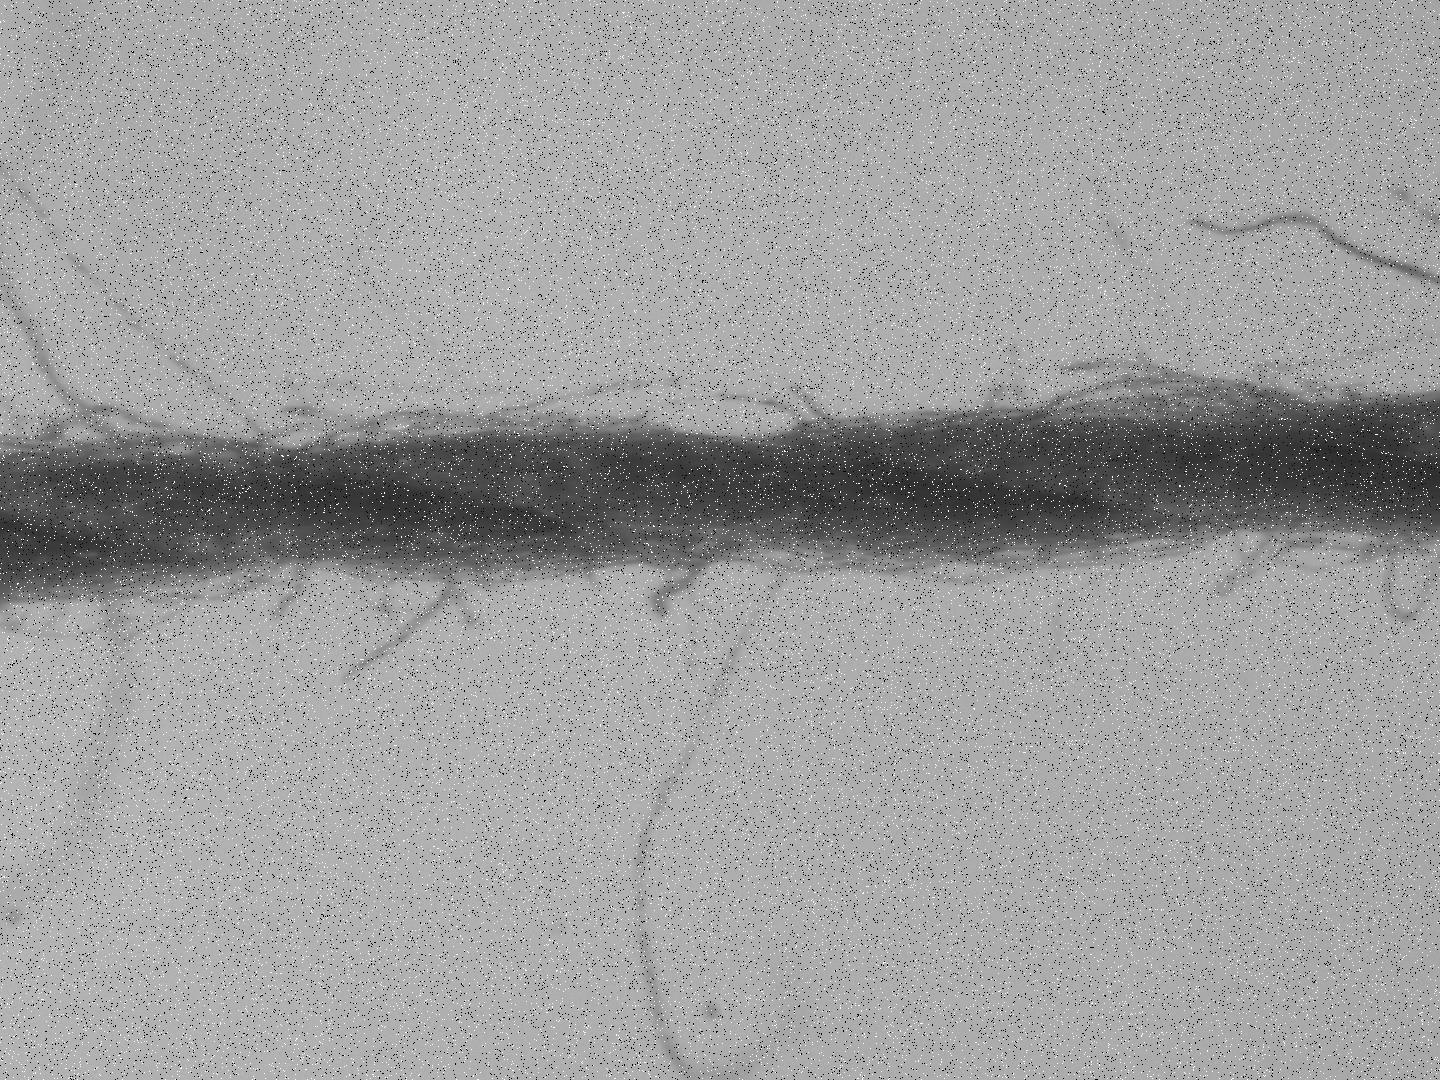loop_fiber: (1, 158, 277, 446), (466, 365, 810, 436), (1, 559, 276, 636), (1245, 318, 1440, 414), (1025, 354, 1296, 421), (273, 373, 459, 456), (1198, 532, 1371, 610), (807, 543, 1087, 589), (1, 396, 196, 456), (1373, 530, 1440, 630), (346, 567, 401, 618)
protruding_fiber: (612, 552, 827, 1074), (6, 592, 136, 926), (1081, 144, 1243, 407), (349, 210, 513, 442), (1036, 533, 1225, 684), (1164, 200, 1440, 292), (1, 269, 136, 441), (328, 573, 491, 692), (938, 336, 1018, 423), (639, 554, 726, 626), (431, 564, 497, 639), (255, 563, 321, 632), (774, 378, 849, 429), (1380, 176, 1440, 229), (575, 564, 612, 601)
